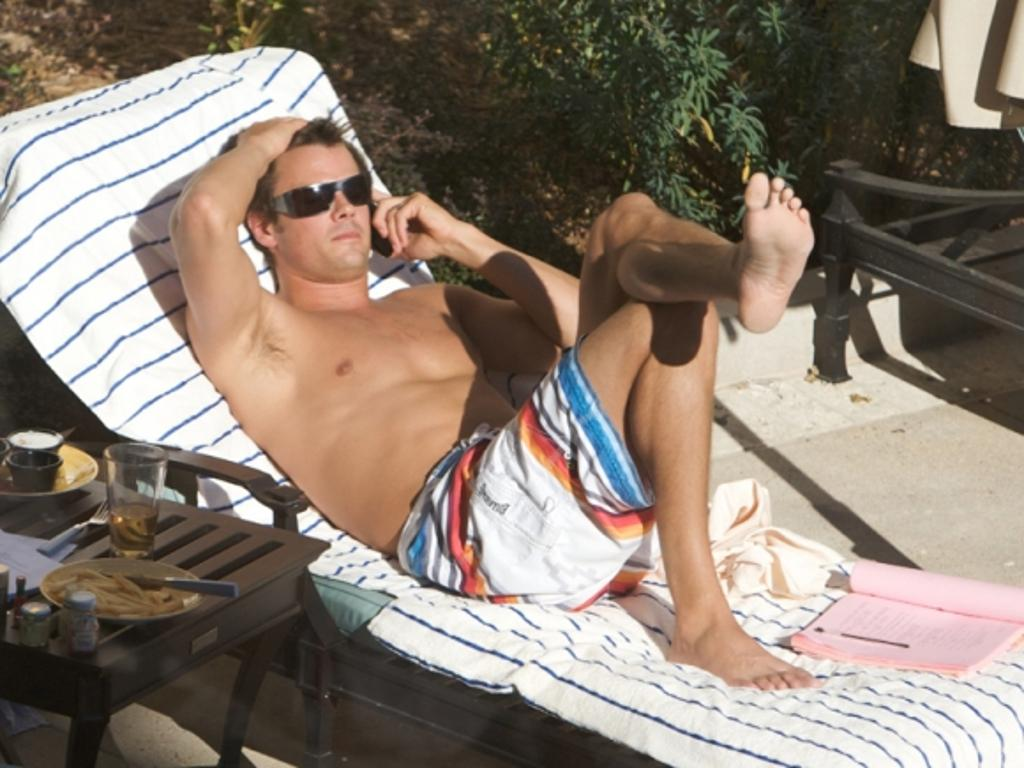face: (282, 142, 376, 270)
